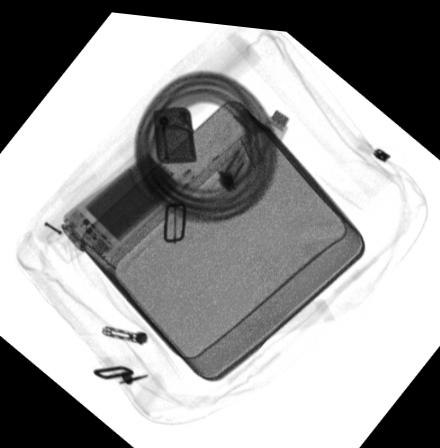Lighter: (151, 100, 196, 160)
Powerbank: (60, 141, 191, 257)
Sprayer: (43, 137, 197, 262)
